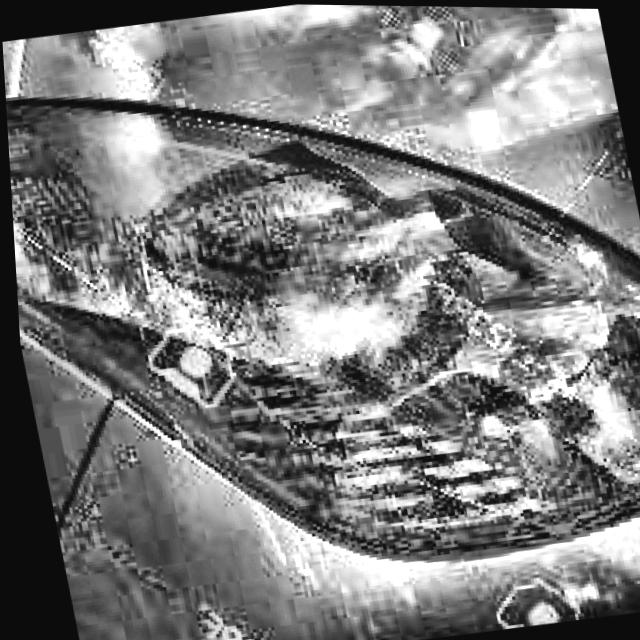tail_lamp: (271, 185, 582, 428)
